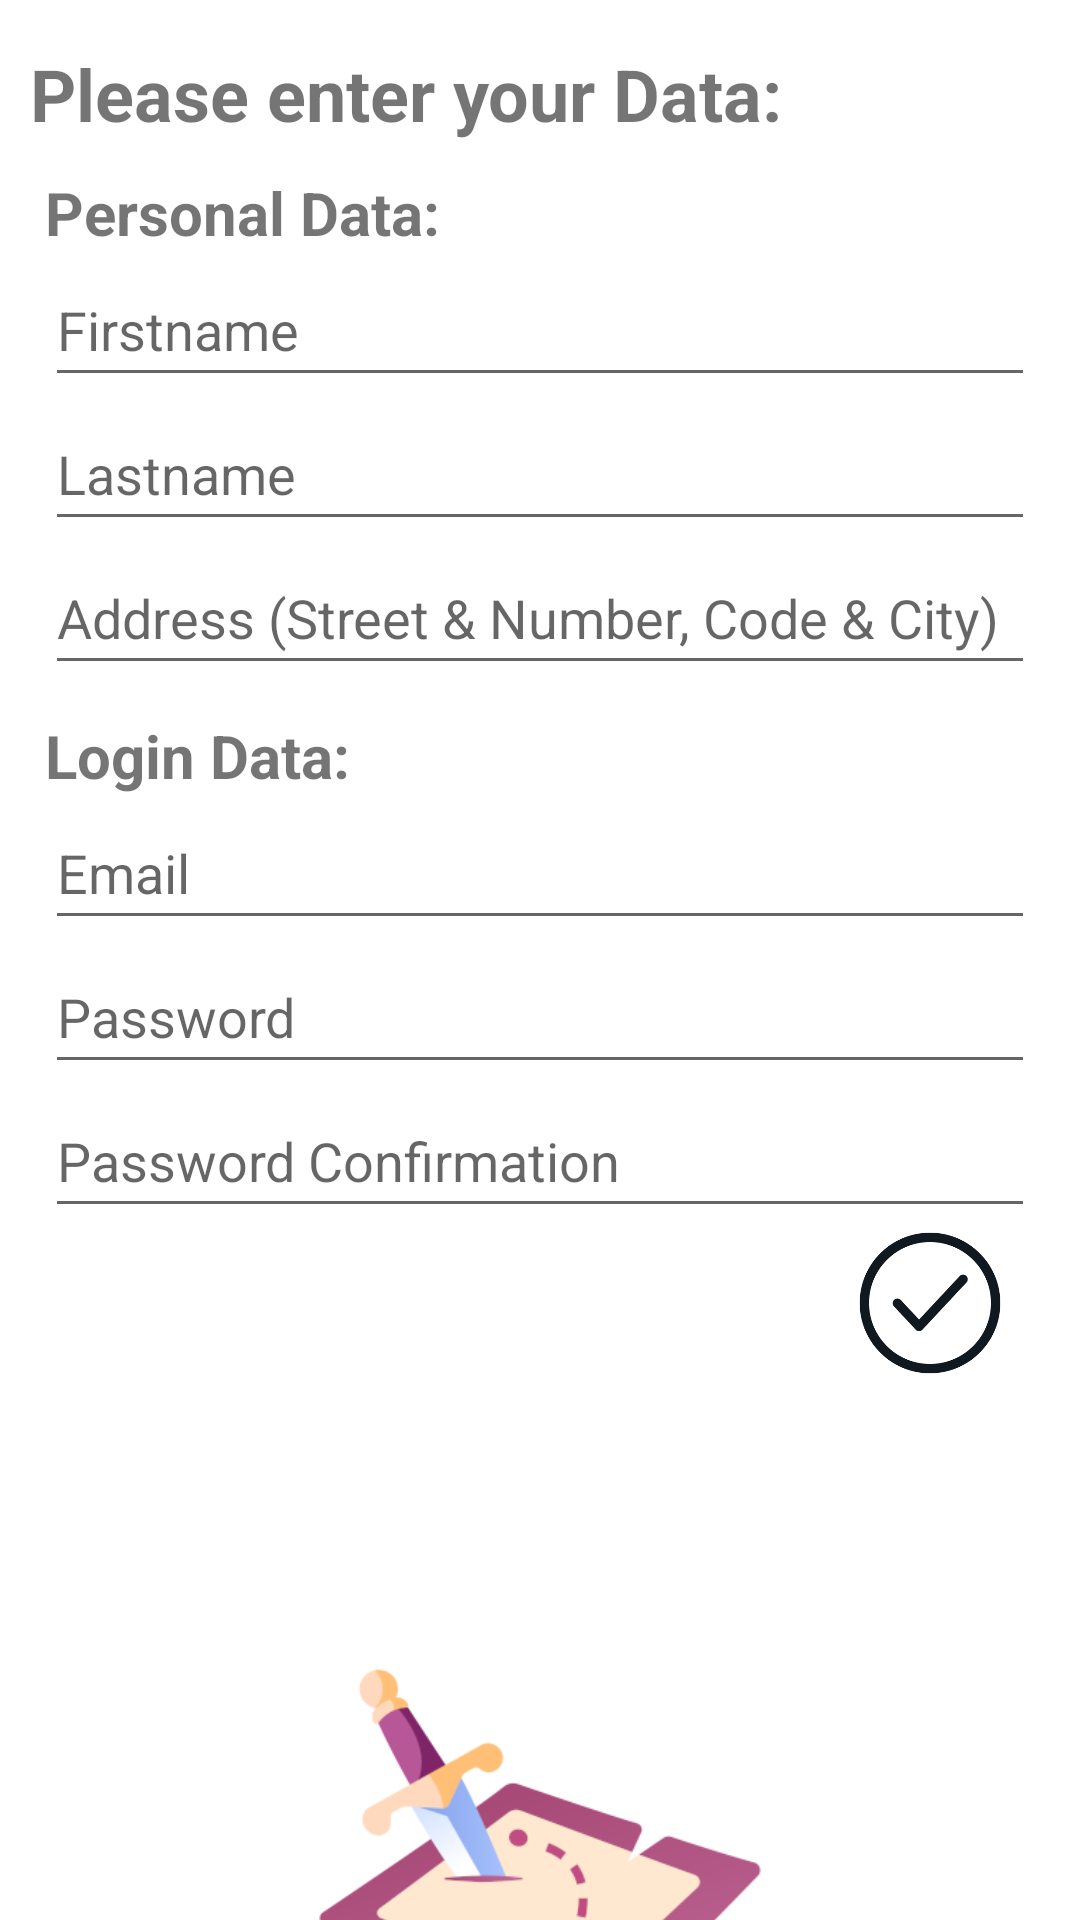

Named icons in this screenshot (1080*1920) and their bounding boxes, (x1, y1, x2, y2):
Save: (860, 1233, 1000, 1373)
